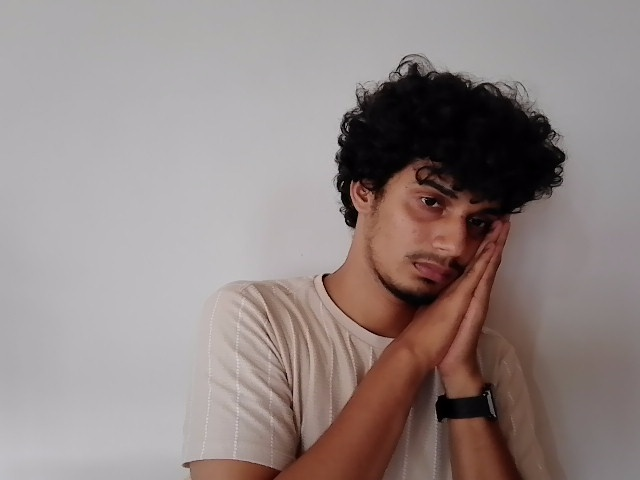sleep: (396, 212, 510, 365)
